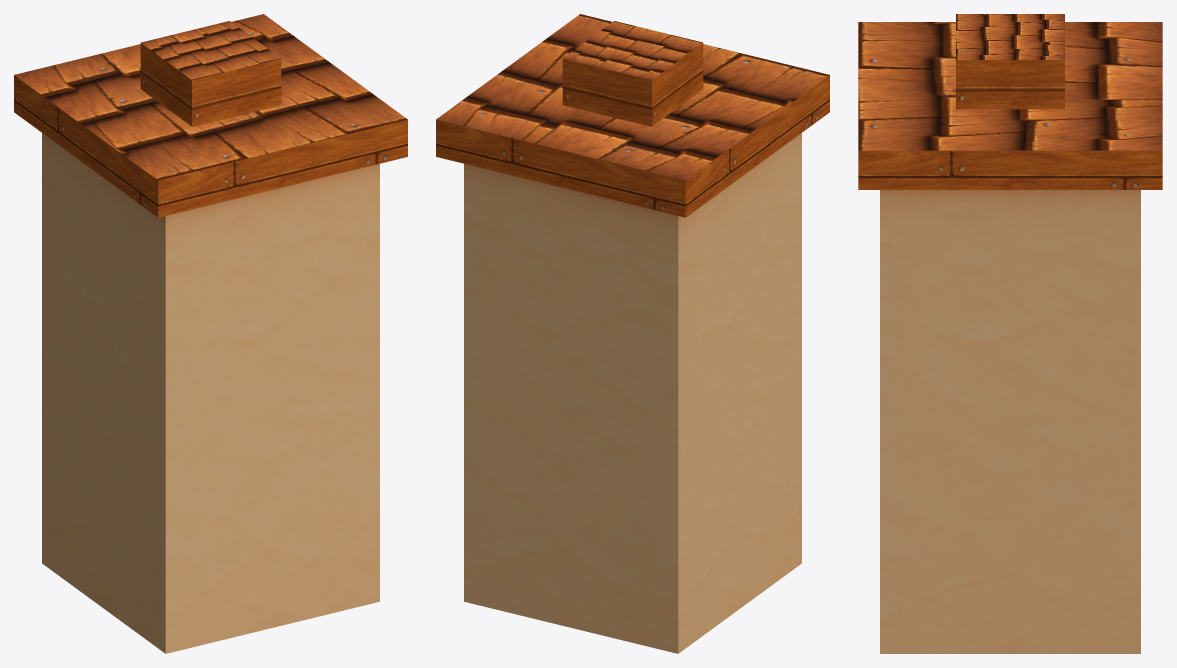
Rendered from Chimney.fbx.
3 views of the same model, side by side, from view 1: azimuth 30°, elevation 25°; view 2: azimuth 150°, elevation 25°; view 3: azimuth 270°, elevation 25° (orthographic). The views are drawn at different scales.
Parts seen in each view (by area): view 1: Chimney; view 2: Chimney; view 3: Chimney.
Part boxes in pixels (x1,y1,x2,y2): Chimney: (14, 14, 407, 653); Chimney: (436, 14, 829, 653); Chimney: (858, 14, 1162, 653).
Size of the model in its own units: 0.7 by 1.43 by 0.7.
